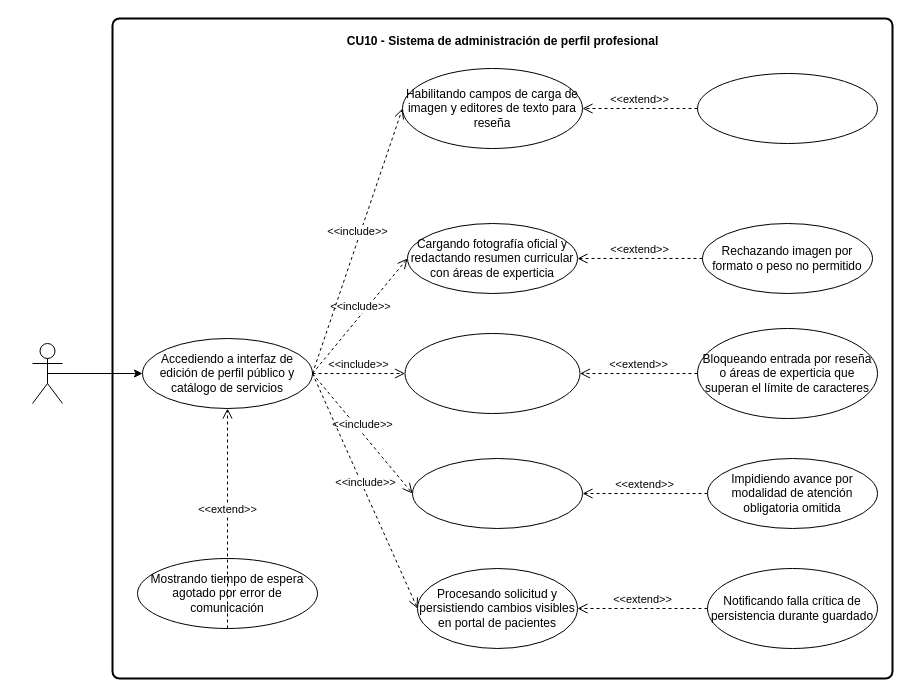
The diagram is 911 pixels wide and 696 high, and some of its shapes have lost their labels. The shapes that lost their labels are listed below. From the top down, each one's centre as x and y in pixels, then its label:
At [787,108]: "Informando perfil inexistente".
At [47,373]: "Profesional".
At [492,373]: "Validando formatos de archivo y extensión de textos ingresados".
At [497,493]: "Definiendo modalidades de atención disponibles para agenda médica".
